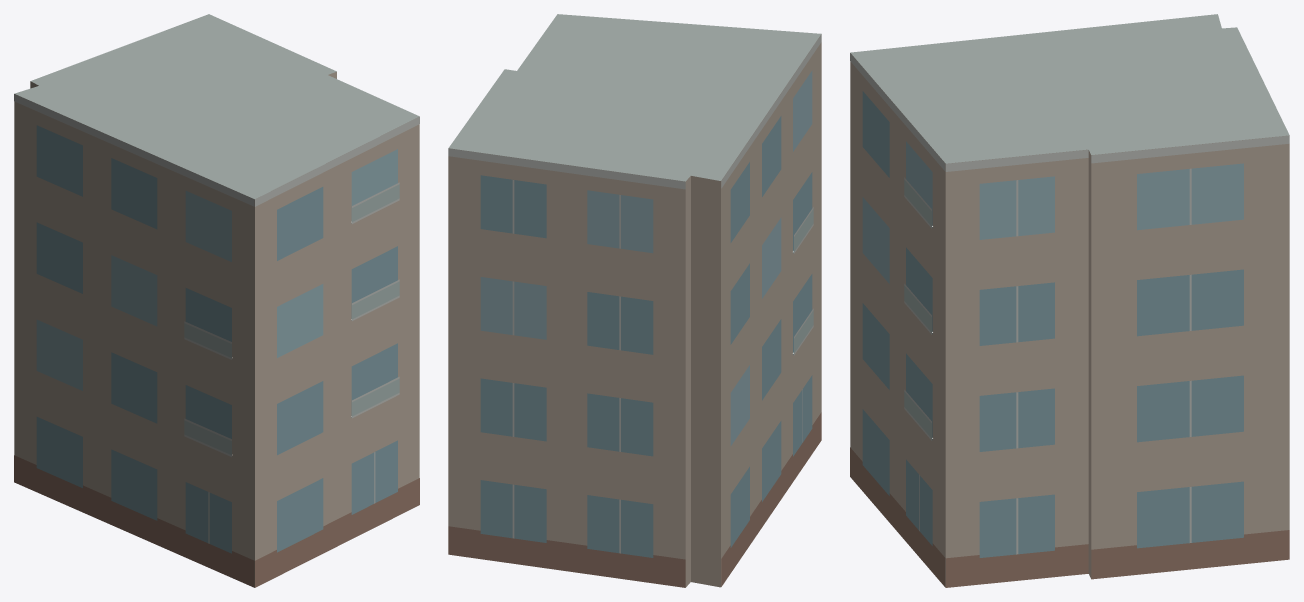
The model's file is survey-upis-32981748.glb.
3 views of the same model, side by side, from view 1: azimuth 30°, elevation 25°; view 2: azimuth 150°, elevation 25°; view 3: azimuth 270°, elevation 25° (orthographic). The views are drawn at different scales.
Parts seen in each view (by area): view 1: survey-upis-32981748.tmp; view 2: survey-upis-32981748.tmp; view 3: survey-upis-32981748.tmp.
Part boxes in pixels (x1,y1,x2,y2): survey-upis-32981748.tmp: (14, 14, 419, 587); survey-upis-32981748.tmp: (448, 14, 821, 587); survey-upis-32981748.tmp: (850, 14, 1289, 587).
Bounding box in the file's own units: 9.39 × 12.4 × 11.66.
